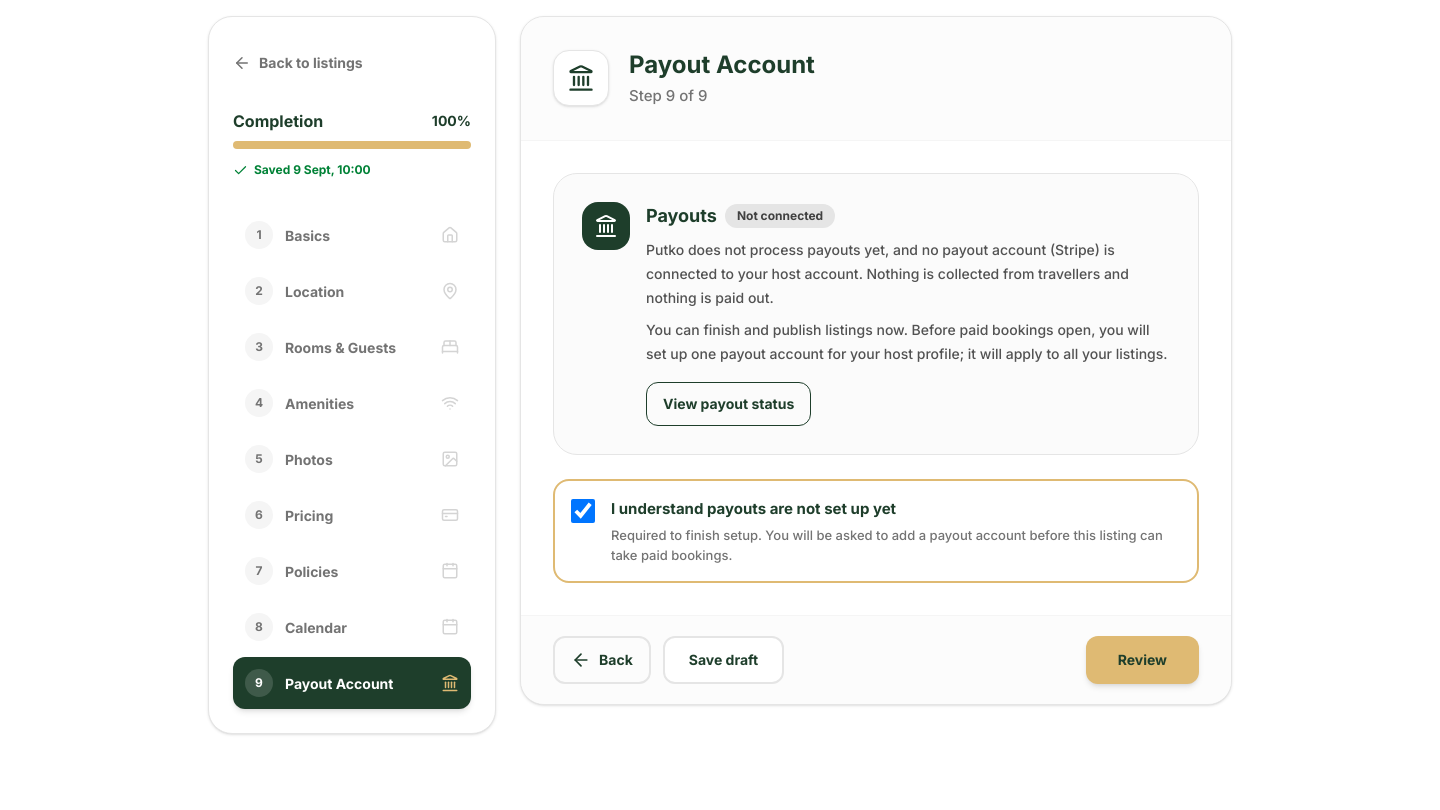
Test: AccommodationForm save races › review re-saves edits made while its save was in flight before opening
This screenshot has width=1440, height=810.
Click the button "Review" at point(1142, 660), box [1086, 636, 1199, 684]
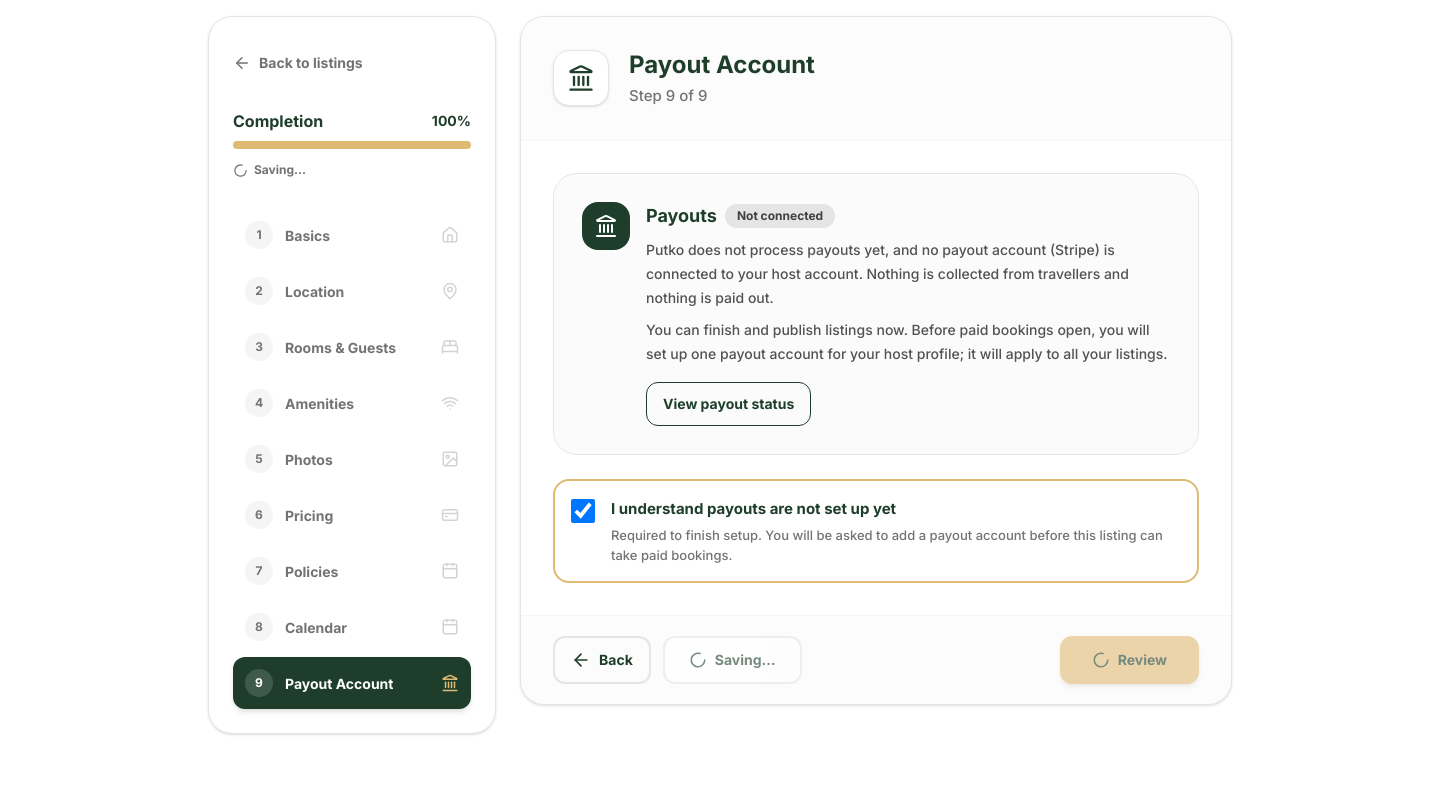
Host unticks the payout acknowledgement while the review's save is running.
Click the checkbox with id "listing-field-payoutAcknowledged" at point(583, 510), box [571, 498, 595, 522]
Wait 20 ms
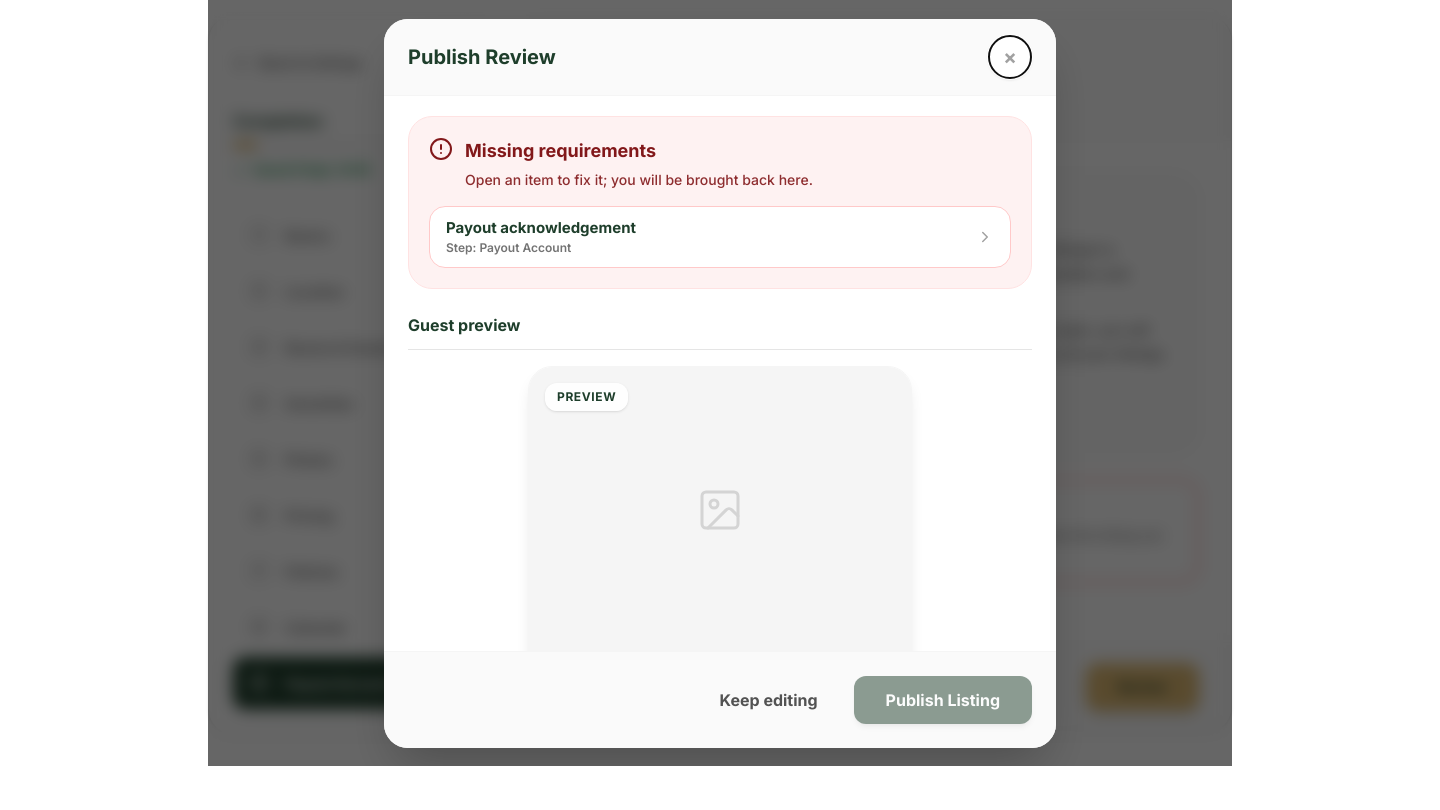
expect the dialog "Publish Review" is shown: met, box [384, 18, 1056, 748]
expect the button "Publish Listing" is disabled: met, box [854, 676, 1032, 724]
expect the button "Payout acknowledgement Step: Payout Account" is shown: met, box [429, 206, 1011, 268]
